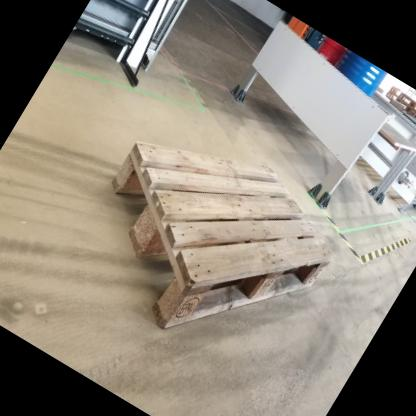BoxFace: (109, 135, 338, 342)
